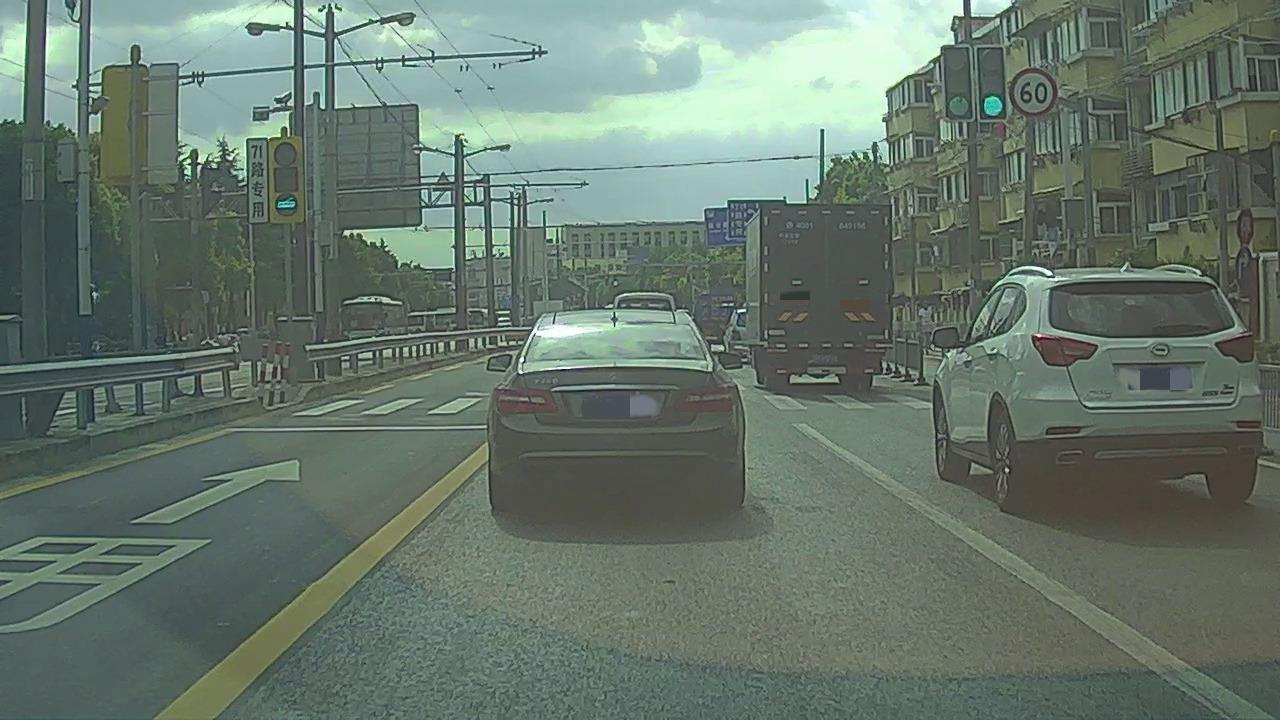traffic_light: (976, 48, 1008, 122), (948, 45, 972, 119)
